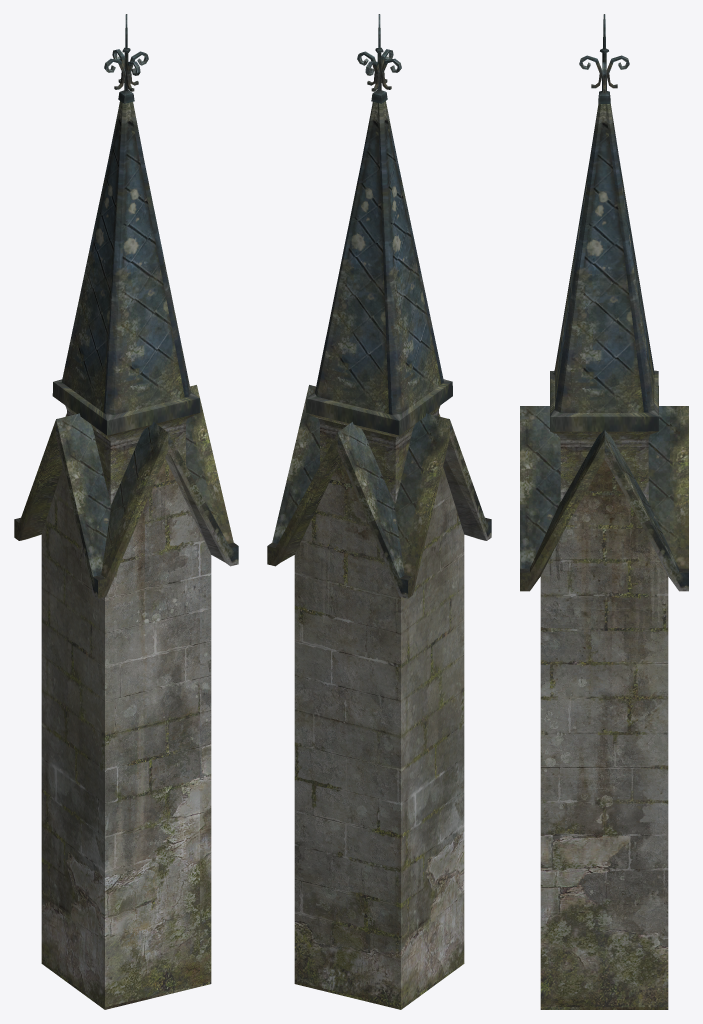
Rendered from bg_lut_lucastle_brosepillar03a_sm_psy.FBX.
The picture shows the model from 3 angles, left to right: view 1: azimuth 30°, elevation 25°; view 2: azimuth 150°, elevation 25°; view 3: azimuth 270°, elevation 25°; orthographic projection.
Parts seen in each view (by area): view 1: bg_lut_lucastle_brosepillar03a_sm_psy; view 2: bg_lut_lucastle_brosepillar03a_sm_psy; view 3: bg_lut_lucastle_brosepillar03a_sm_psy.
Boxes of the visible parts, x1=… form: bg_lut_lucastle_brosepillar03a_sm_psy: x1=14, y1=14, x2=238, y2=1009; bg_lut_lucastle_brosepillar03a_sm_psy: x1=267, y1=14, x2=491, y2=1009; bg_lut_lucastle_brosepillar03a_sm_psy: x1=520, y1=14, x2=688, y2=1009.
Bounding box in the file's own units: 116 × 752 × 119.
